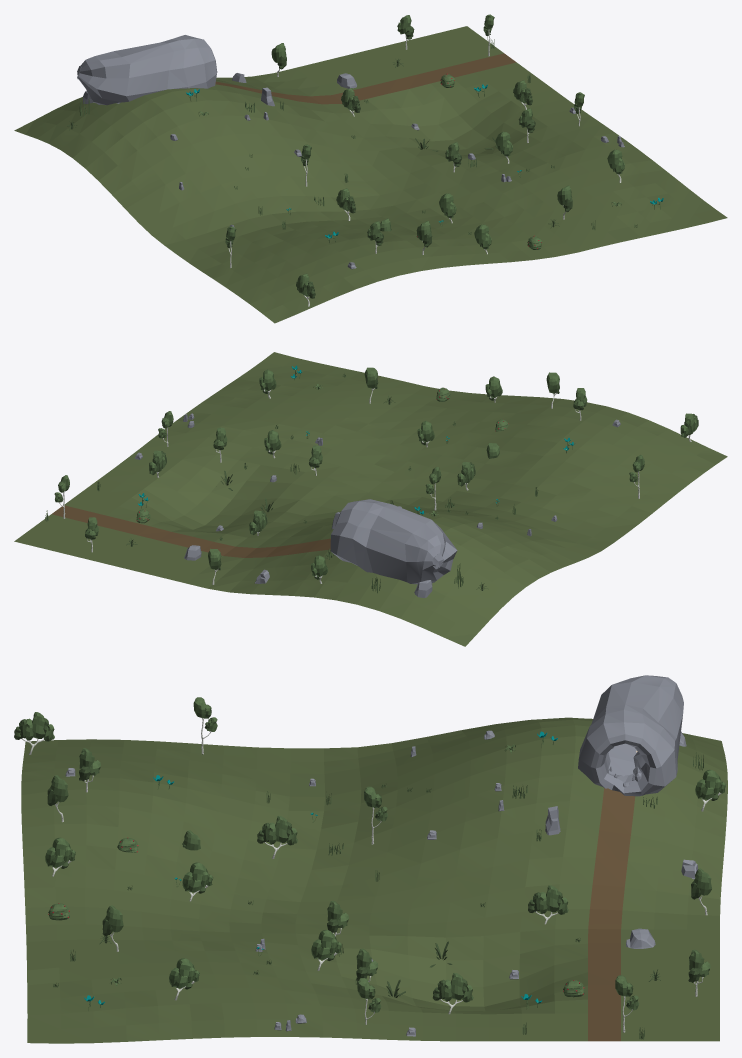
3 renders of one model, top to bottom at view 1: azimuth 30°, elevation 25°; view 2: azimuth 150°, elevation 25°; view 3: azimuth 270°, elevation 25°, orthographic. The views are drawn at different scales.
Bounding box in the file's own units: 20.11 × 4.87 × 20.59.
